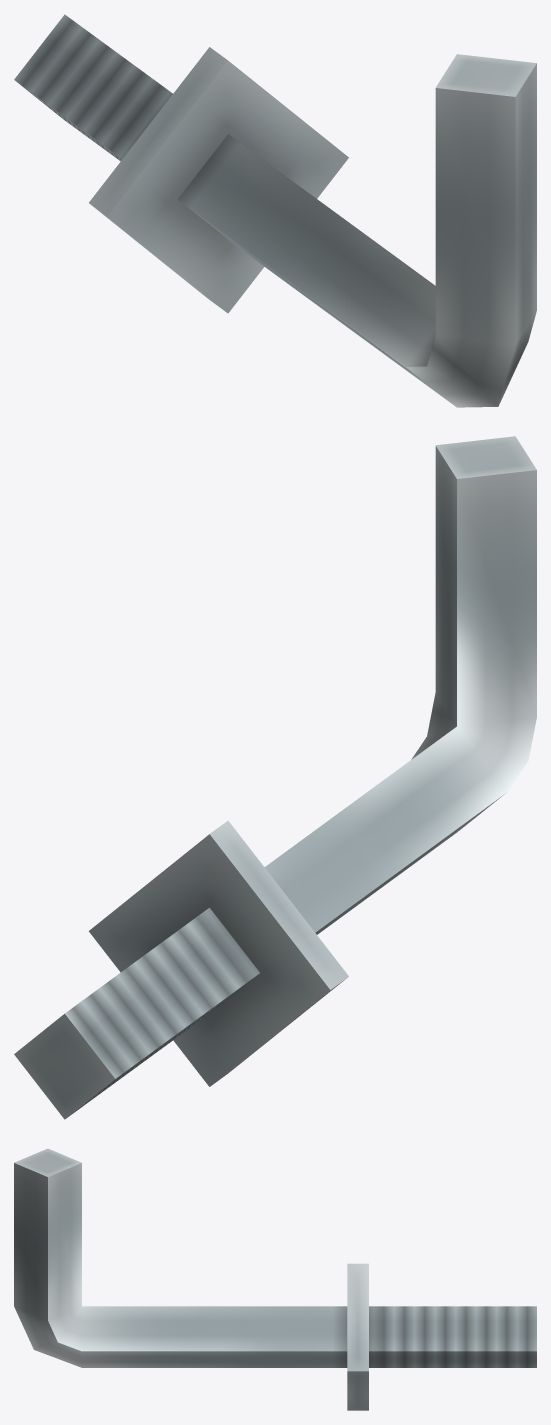
The model's file is Hook_01_01.fbx.
3 renders of one model, top to bottom at view 1: azimuth 30°, elevation 25°; view 2: azimuth 150°, elevation 25°; view 3: azimuth 270°, elevation 25°, orthographic. The views are drawn at different scales.
Parts seen in each view (by area): view 1: hook_01_01; view 2: hook_01_01; view 3: hook_01_01.
Boxes of the visible parts, x1=… form: hook_01_01: x1=14, y1=14, x2=536, y2=407; hook_01_01: x1=14, y1=436, x2=536, y2=1119; hook_01_01: x1=14, y1=1148, x2=536, y2=1410.
Size of the model in its own units: 0.9072 by 1.53 by 2.93.
